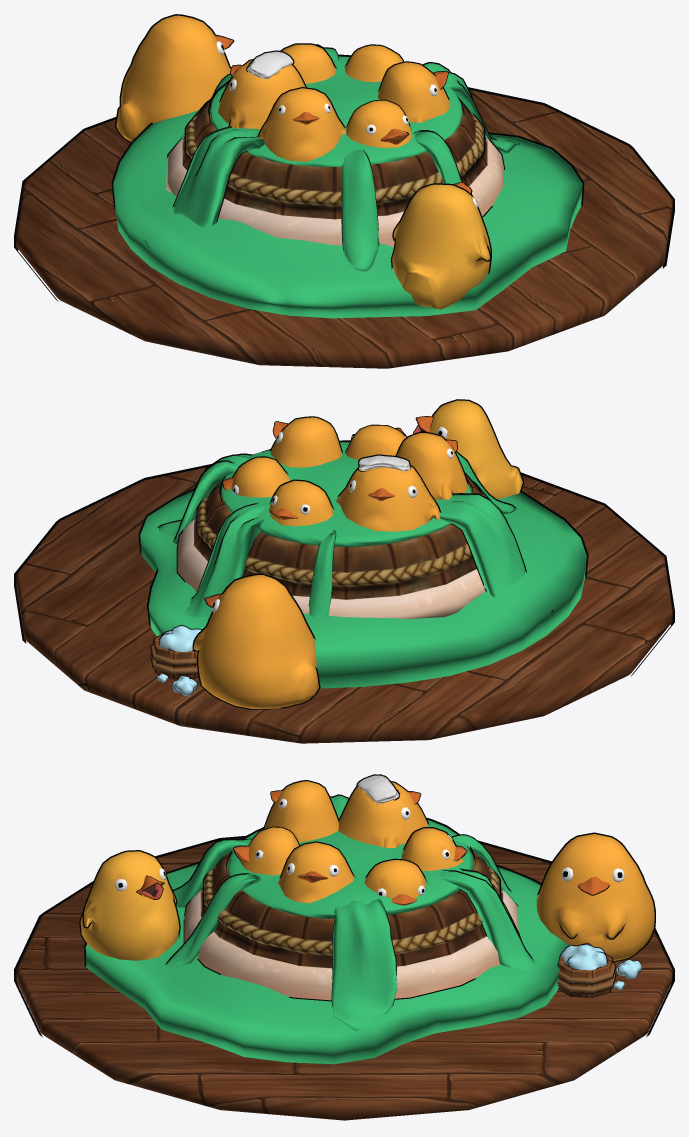
3 views of the same model, one above another, from view 1: azimuth 30°, elevation 25°; view 2: azimuth 150°, elevation 25°; view 3: azimuth 270°, elevation 25° (orthographic).
Parts seen in each view (by area): view 1: Floor, Water_Puddle, Bath, Cube.019, Cube.028, Water, Water_Puddle.005, Cube.010, Water_Puddle.006, Cube.004, Cube.006, Cube.018 (+7 smaller); view 2: Floor, Water_Puddle, Bath, Cube.028, Water, Cube.004, Water_Puddle.005, Cube.019, Water_Puddle.003, Cube.010, Cube.006, Cube.002 (+10 smaller); view 3: Floor, Water_Puddle, Bath, Cube.028, Cube.019, Water_Puddle.002, Water, Cube.004, Water_Puddle.003, Cube.010, Cube.006, Water_Puddle.007 (+11 smaller).
Part boxes in pixels (x1,y1,x2,y2): Floor: (16,90,672,368); Water_Puddle: (113,110,582,318); Bath: (166,102,503,246); Cube.019: (392,184,490,309); Cube.028: (116,15,230,141); Water: (210,56,462,166); Water_Puddle.005: (148,127,264,246); Cube.010: (258,88,345,161); Water_Puddle.006: (341,150,378,271); Cube.004: (217,60,305,129); Cube.006: (377,62,449,122); Cube.018: (346,100,412,148); Floor: (16,467,672,743); Water_Puddle: (140,491,586,688); Bath: (177,442,486,619); Cube.028: (194,575,318,708); Water: (221,442,471,546); Cube.004: (336,466,440,531); Water_Puddle.005: (435,494,551,611); Cube.019: (430,400,522,498); Water_Puddle.003: (186,504,265,619); Cube.010: (397,433,467,499); Cube.006: (270,417,342,467); Cube.002: (268,480,333,526); Floor: (16,838,672,1120); Water_Puddle: (85,863,569,1064); Bath: (184,851,518,1000); Cube.028: (536,834,654,961); Cube.019: (80,851,179,960); Water_Puddle.002: (332,899,396,1031); Water: (227,820,473,918); Cube.004: (338,782,428,848); Water_Puddle.003: (438,870,535,969); Cube.010: (264,781,338,842); Cube.006: (277,842,353,903); Water_Puddle.007: (166,874,260,967).
Bounding box in the file's own units: 2849 × 841 × 2849.
Materials: 15 (7 with a texture image).
